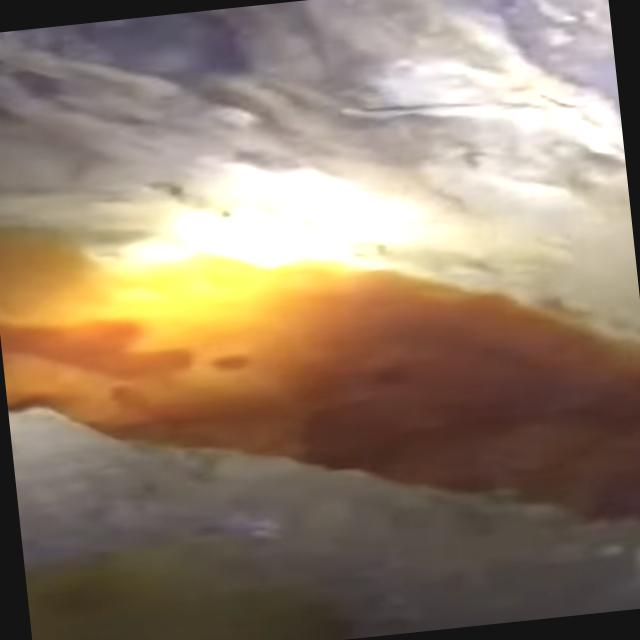yellow_boy: (0, 227, 640, 520)
